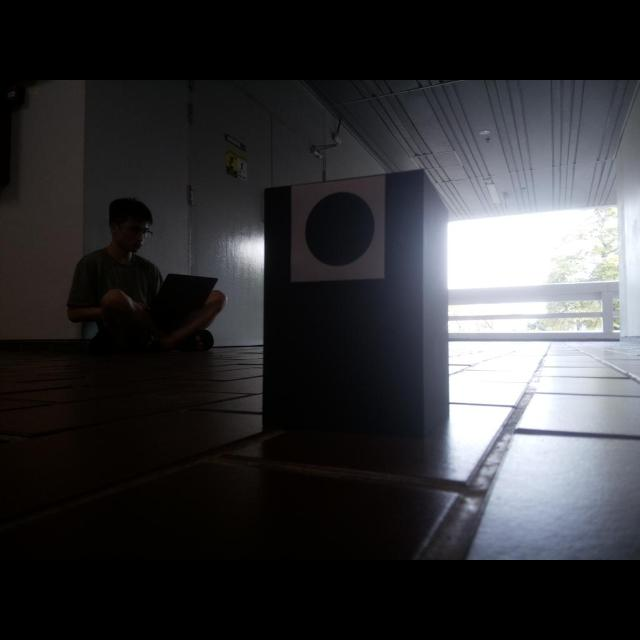CIRCLE: (303, 188, 379, 269)
